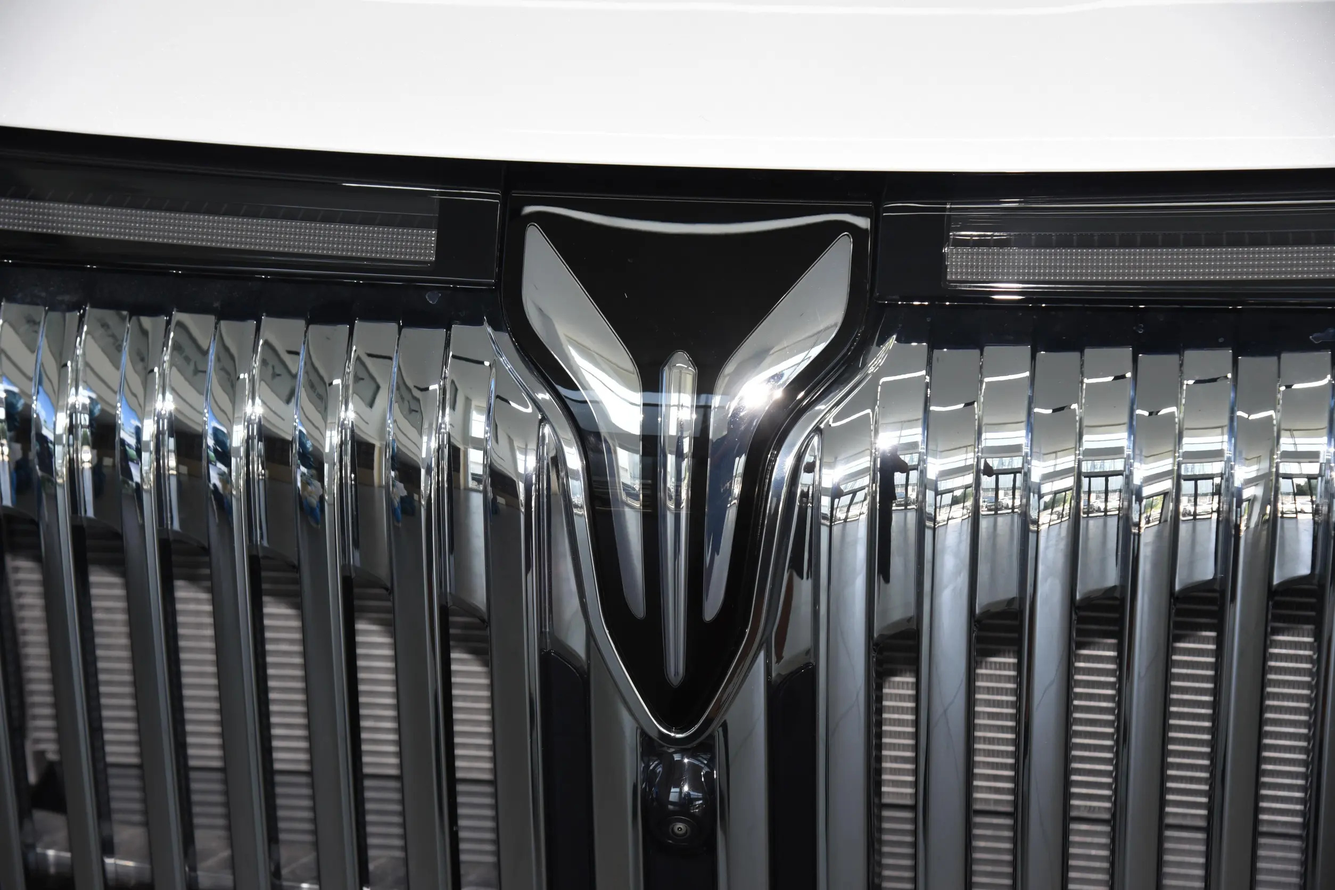VOYAH: (523, 224, 852, 687)
